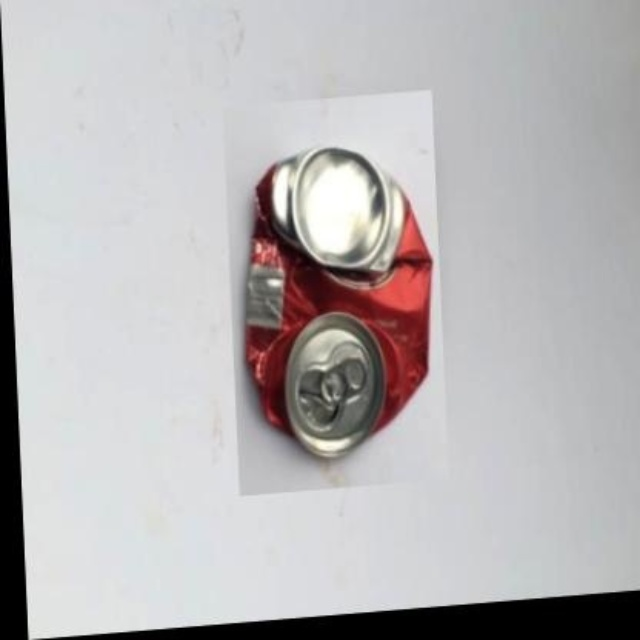trash: (246, 148, 431, 457)
